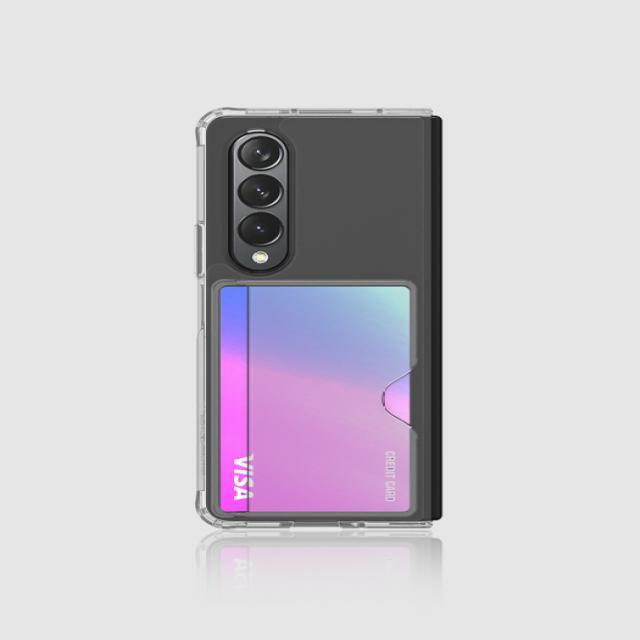phone: (196, 107, 444, 530)
